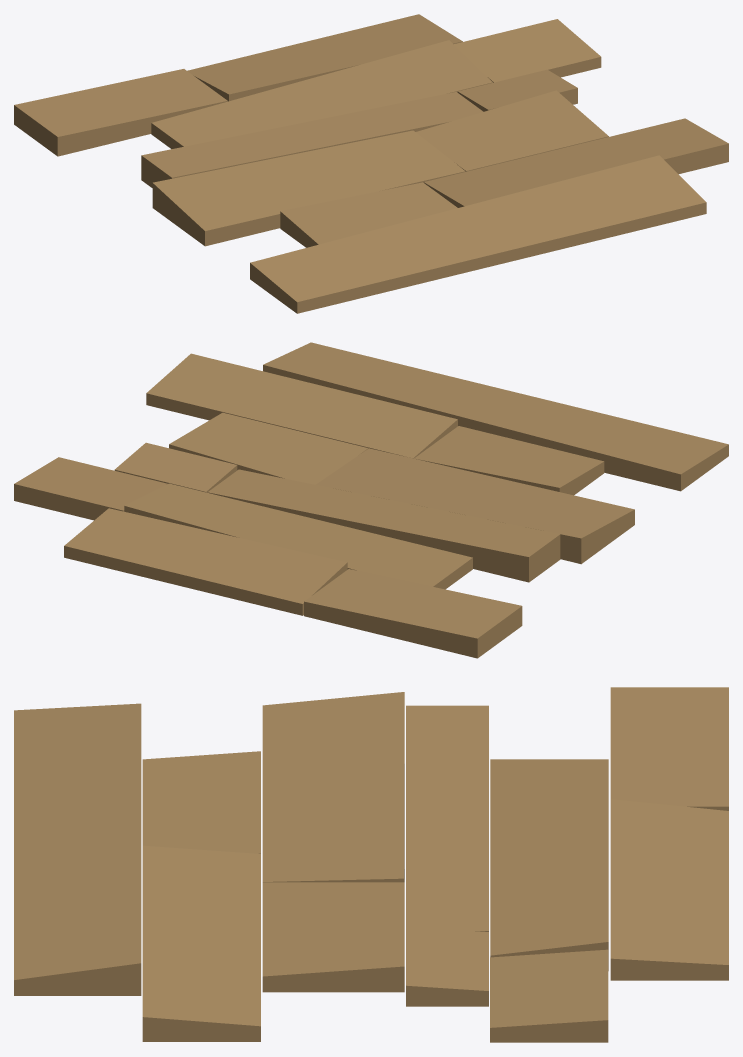
Rendered from Tiles_Wooden 1.fbx.
3 renders of one model, top to bottom at view 1: azimuth 30°, elevation 25°; view 2: azimuth 150°, elevation 25°; view 3: azimuth 270°, elevation 25°, orthographic. The views are drawn at different scales.
Visible parts, largest first — view 1: Tiles_Wooden; view 2: Tiles_Wooden; view 3: Tiles_Wooden.
Part boxes in pixels (x1,y1,x2,y2): Tiles_Wooden: (14,14,728,313); Tiles_Wooden: (14,342,728,658); Tiles_Wooden: (14,687,728,1042).
Bounding box in the file's own units: 0.0493 × 0.00239 × 0.0453.
